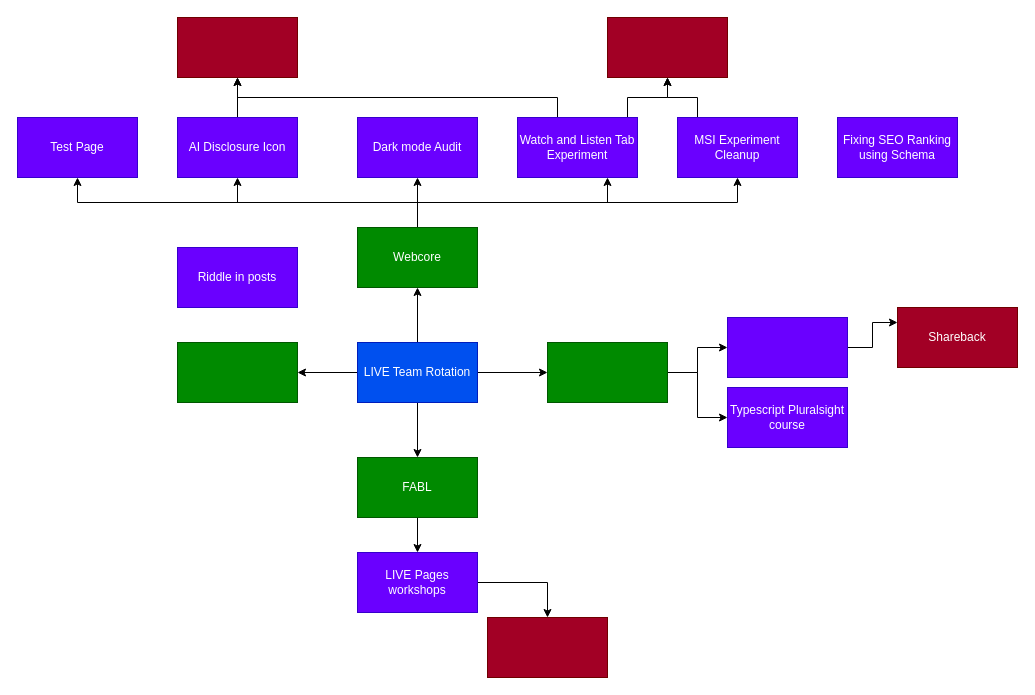
The diagram is 1035 pixels wide and 695 high, and some of its shapes have lost their labels. Each missing label, with the centre of its shape:
"Accessibility - Aria text for screen readers" belongs at point 237,47.
"Debugging with FABL Playground and Grafana" belongs at point 547,647.
"Experiments - iSite toggles, Optimizely trackers, Piano tracking" belongs at point 667,47.
"React" belongs at point 237,372.
"Typescript" belongs at point 607,372.
"Typescript (Intermediate) Academy course" belongs at point 787,347.
